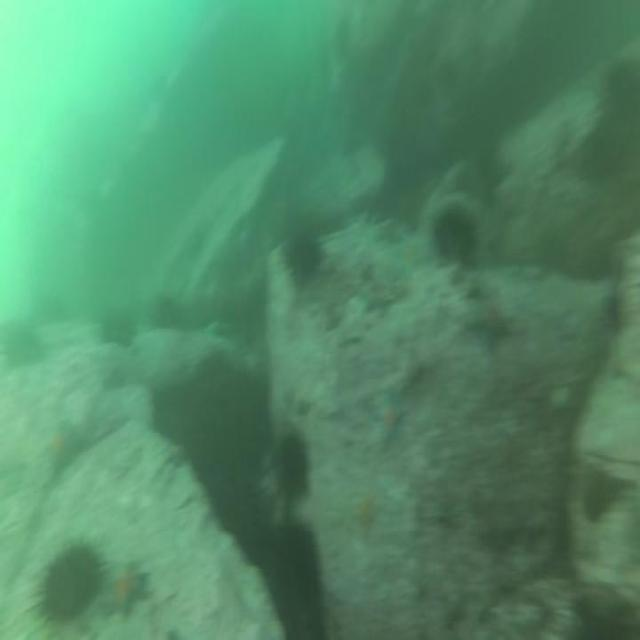echinus: (30, 537, 107, 632), (271, 522, 328, 634), (266, 423, 314, 508), (430, 202, 484, 274), (231, 486, 276, 570), (601, 49, 640, 142), (280, 224, 327, 291), (0, 318, 47, 371), (94, 310, 139, 349), (147, 291, 177, 333)
starfish: (98, 556, 156, 624), (468, 302, 526, 352), (373, 384, 411, 452), (358, 272, 408, 318), (376, 216, 407, 252), (163, 442, 193, 476)
